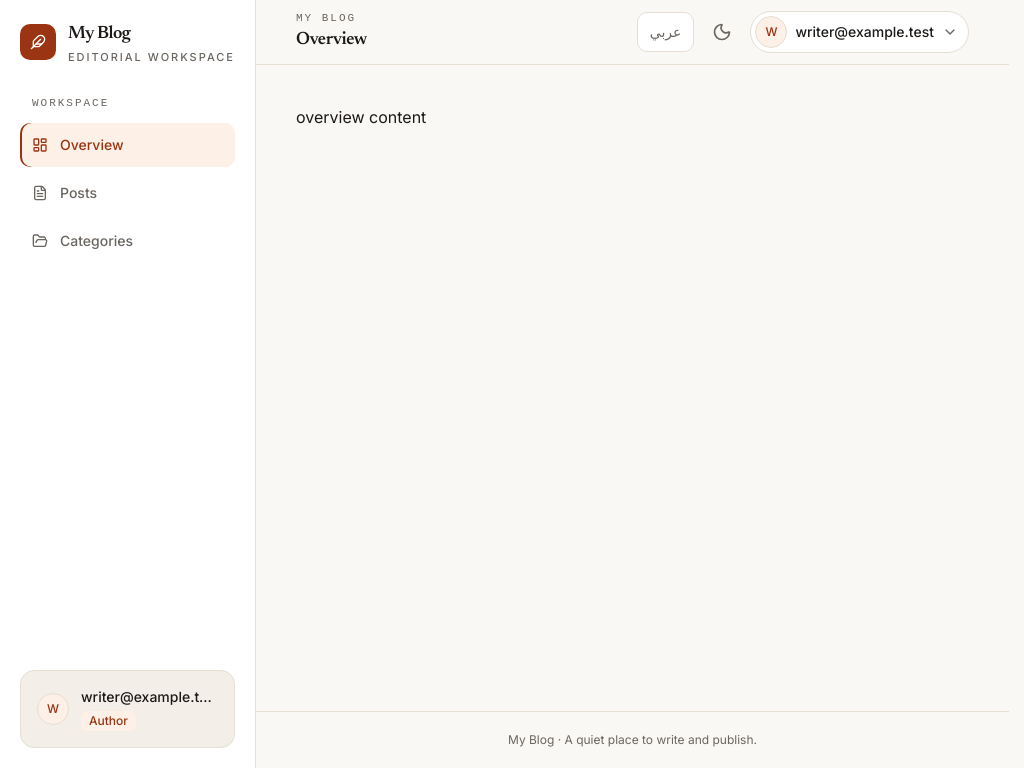
it: DashboardLayout › opens the account disclosure for a signed-in user and closes it on Escape
This screenshot has width=1024, height=768.
Click the button "W writer@example.test" at (860, 32), box x1=750 y1=11 x2=969 y2=53
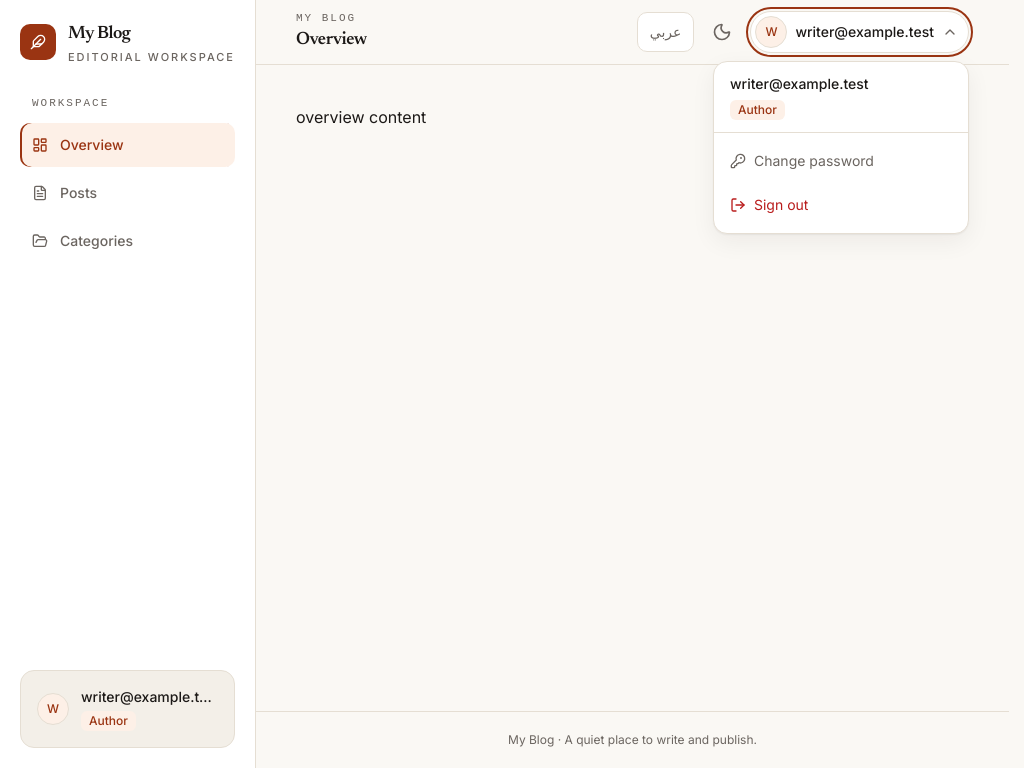
Now the button "W writer@example.test" is expanded, box x1=750 y1=11 x2=969 y2=53
Now the button "Change password" is shown, box x1=720 y1=139 x2=962 y2=183
Now the button "Sign out" is shown, box x1=720 y1=183 x2=962 y2=227
Press Escape
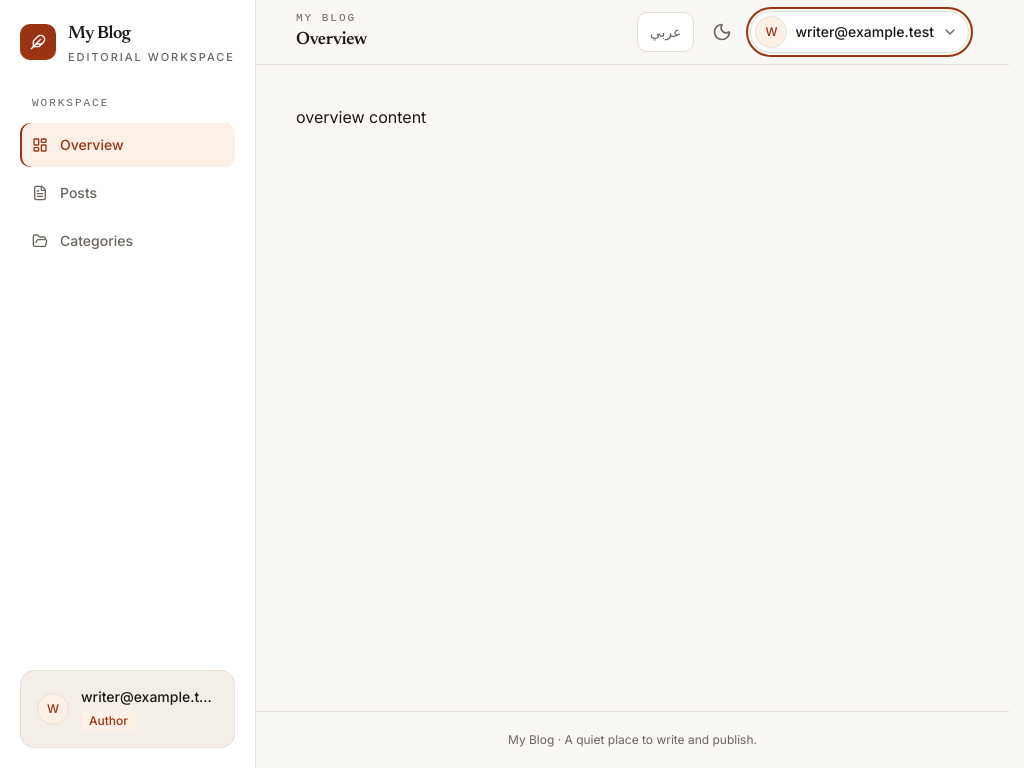
Now the button "W writer@example.test" is collapsed, box x1=750 y1=11 x2=969 y2=53
